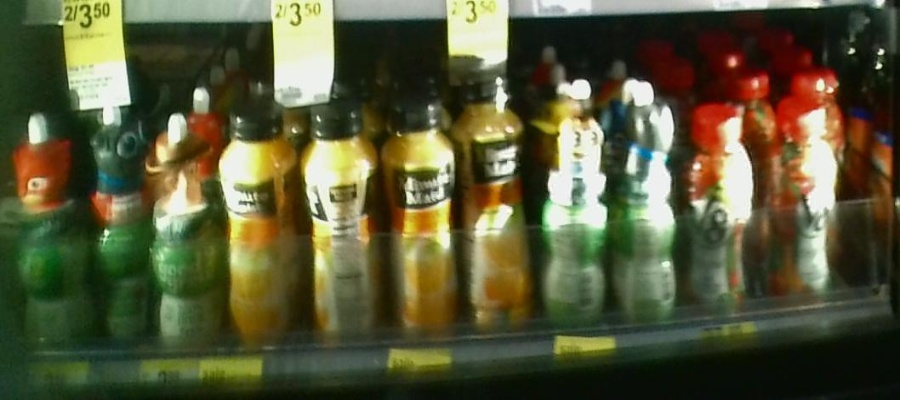bottle: (380, 91, 458, 350), (300, 93, 378, 349), (460, 70, 533, 331), (219, 96, 295, 346), (538, 74, 608, 327), (11, 108, 83, 341), (612, 81, 680, 319), (149, 109, 215, 347), (765, 90, 839, 300), (681, 102, 756, 309), (88, 100, 146, 339)
